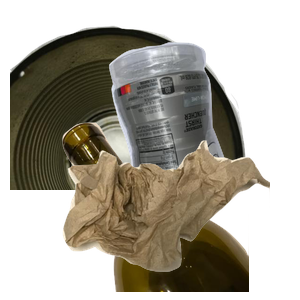glass: (60, 120, 300, 300)
metal: (10, 23, 250, 203)
plastic: (106, 40, 300, 220)
trash: (60, 138, 300, 300)
